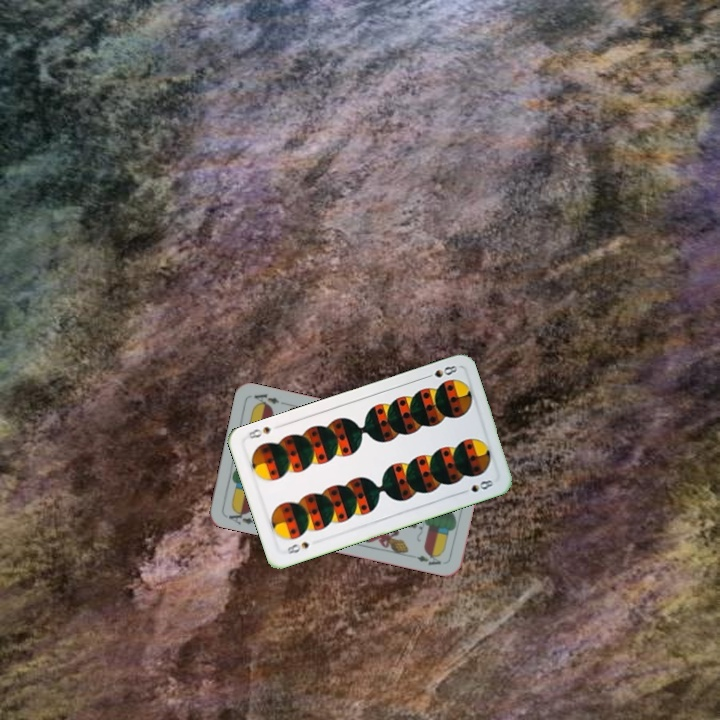EA: (222, 505, 258, 527)
S8: (420, 361, 460, 381), (283, 538, 312, 557)
